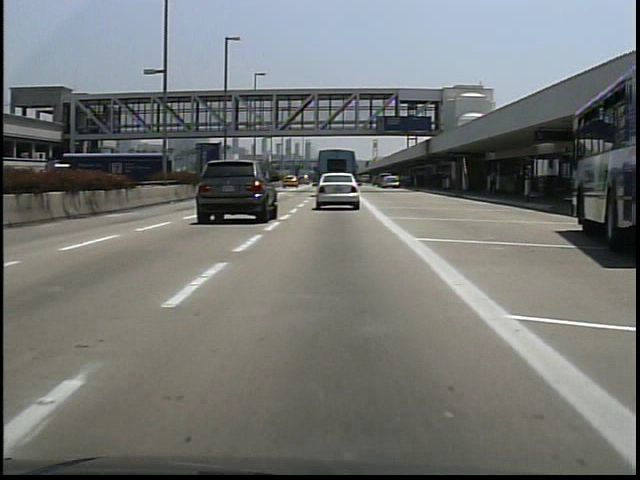person: (483, 166, 504, 203)
